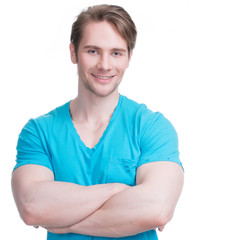young: (60, 2, 141, 107)
